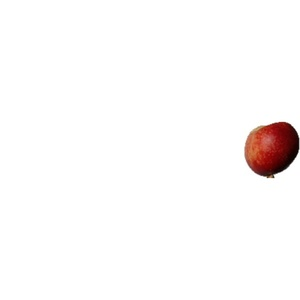nectarina: (245, 123, 300, 179)
